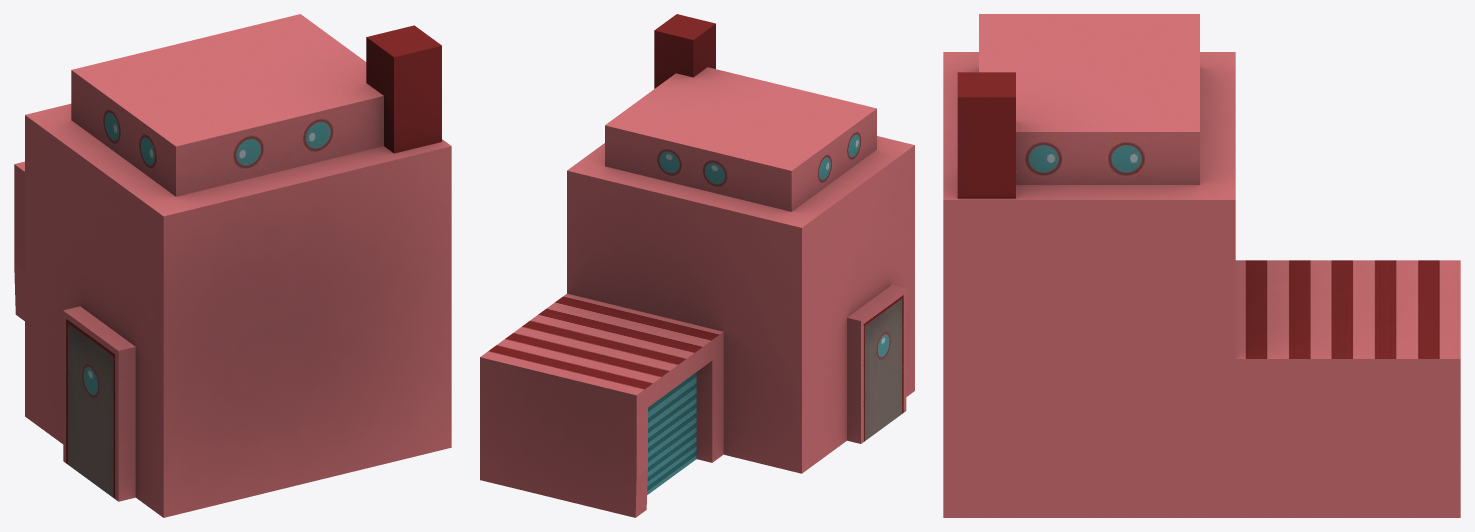
Rendered from Hottie_home.fbx.
The picture shows the model from 3 angles, left to right: view 1: azimuth 30°, elevation 25°; view 2: azimuth 150°, elevation 25°; view 3: azimuth 270°, elevation 25°; orthographic projection. The views are drawn at different scales.
Parts seen in each view (by area): view 1: Hottie_home; view 2: Hottie_home; view 3: Hottie_home.
Part boxes in pixels (box(x1,y1,x2,y2)): Hottie_home: box(14, 14, 451, 517); Hottie_home: box(480, 14, 914, 517); Hottie_home: box(943, 14, 1460, 517).
Size of the model in its own units: 63.57 by 79.15 by 88.51.
1 material, 1 textured.
